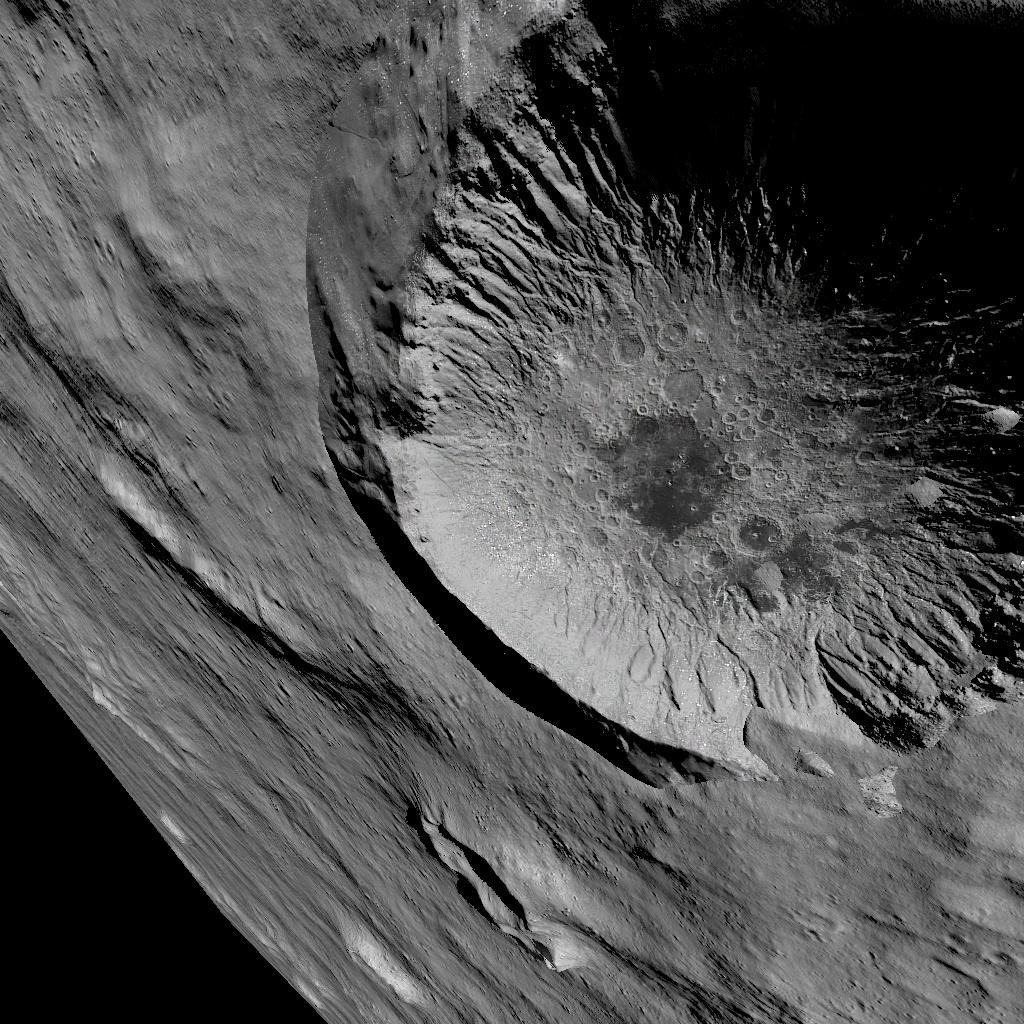Crater: (302, 0, 1024, 777), (389, 792, 556, 938)
Plan surface: (597, 790, 1024, 1024)
